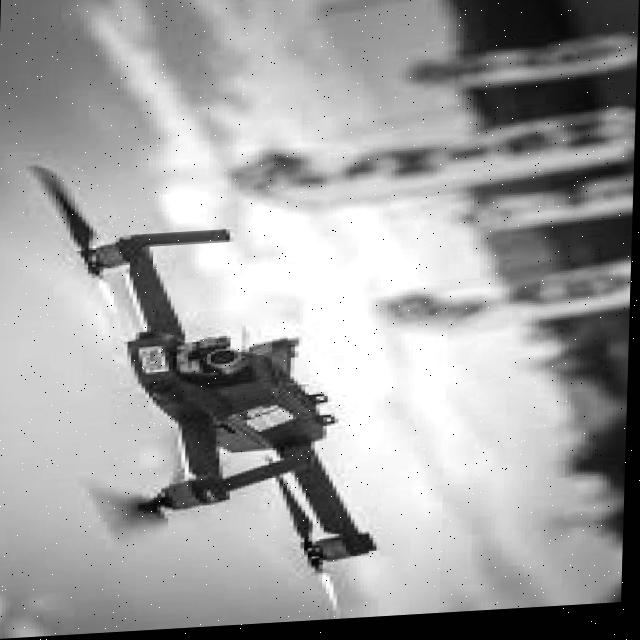drone: (11, 151, 411, 639)
